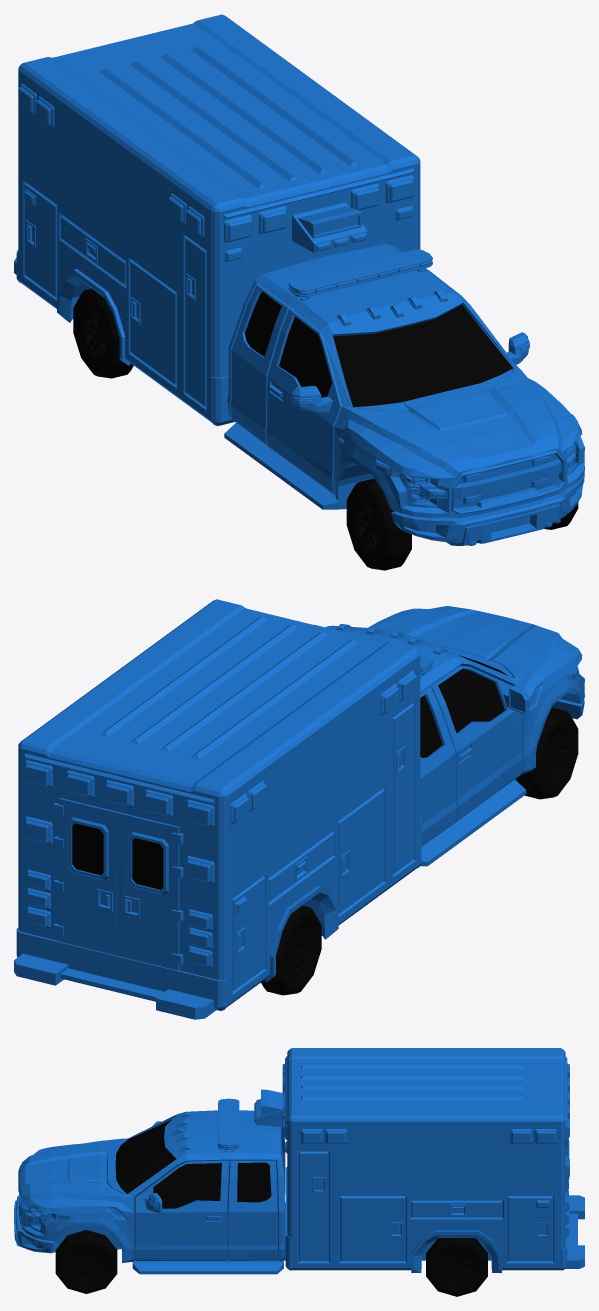
File: Ph_car.fbx
3 renders of one model, top to bottom at view 1: azimuth 30°, elevation 25°; view 2: azimuth 150°, elevation 25°; view 3: azimuth 270°, elevation 25°, orthographic. The views are drawn at different scales.
Parts seen in each view (by area): view 1: Symmetry_1, Cylinder_1, Cylinder_4; view 2: Symmetry_1, Symmetry_4, Cylinder, Cylinder_1, Cylinder_4; view 3: Symmetry_1, Cylinder_2, Cylinder_4.
Part boxes in pixels (x1,y1,x2,y2): Symmetry_1: (14, 14, 584, 545); Cylinder_1: (346, 478, 411, 570); Cylinder_4: (73, 288, 133, 378); Symmetry_1: (14, 599, 584, 1019); Symmetry_4: (118, 812, 183, 970); Cylinder: (54, 798, 119, 955); Cylinder_1: (515, 707, 578, 799); Cylinder_4: (261, 905, 321, 995); Symmetry_1: (14, 1048, 584, 1274); Cylinder_2: (55, 1230, 117, 1293); Cylinder_4: (426, 1238, 487, 1296).
Size of the model in its own units: 264 by 279 by 793.
